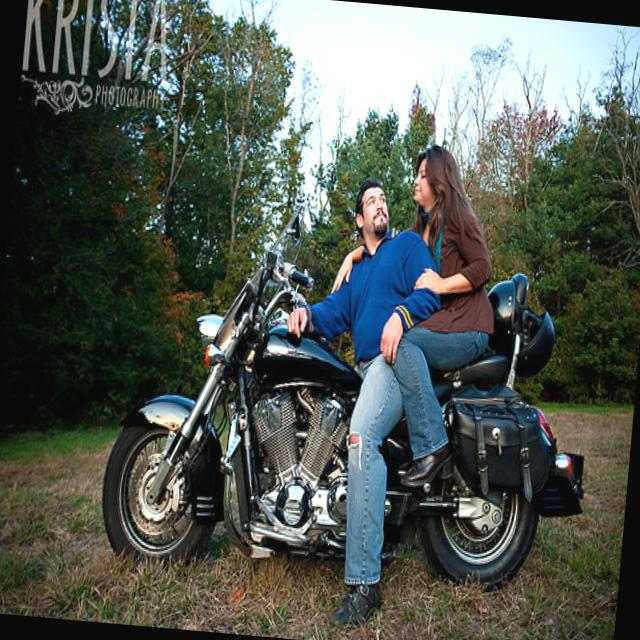Vehicle: (93, 177, 375, 580), (374, 326, 596, 601)
